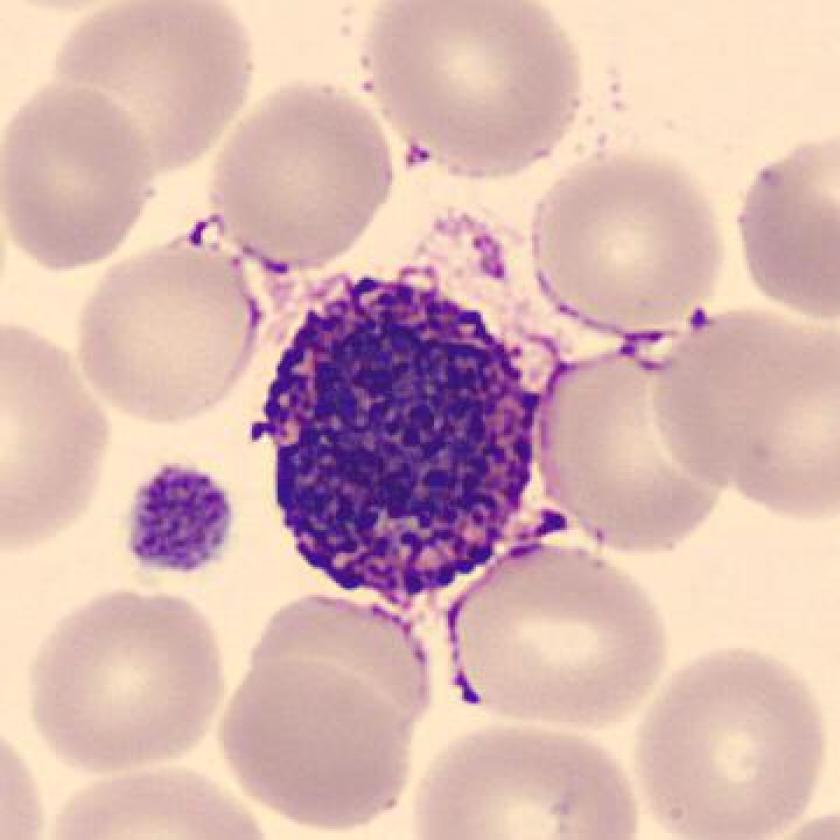basophil: (255, 258, 545, 612)
